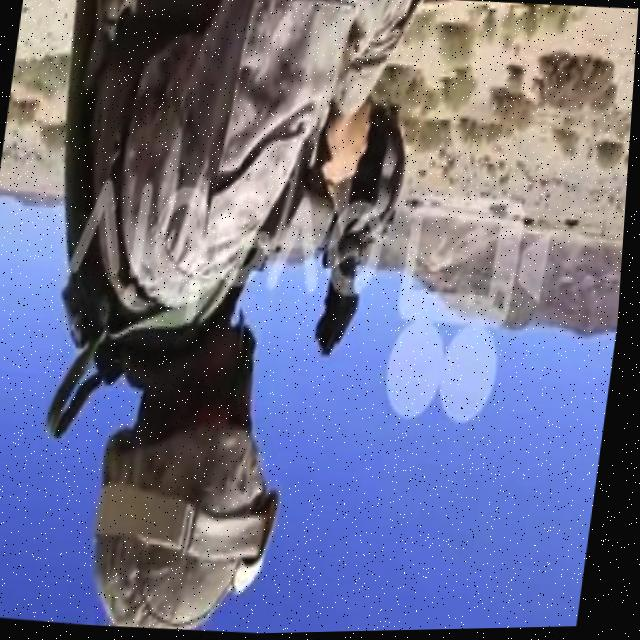rocket: (246, 97, 425, 362)
